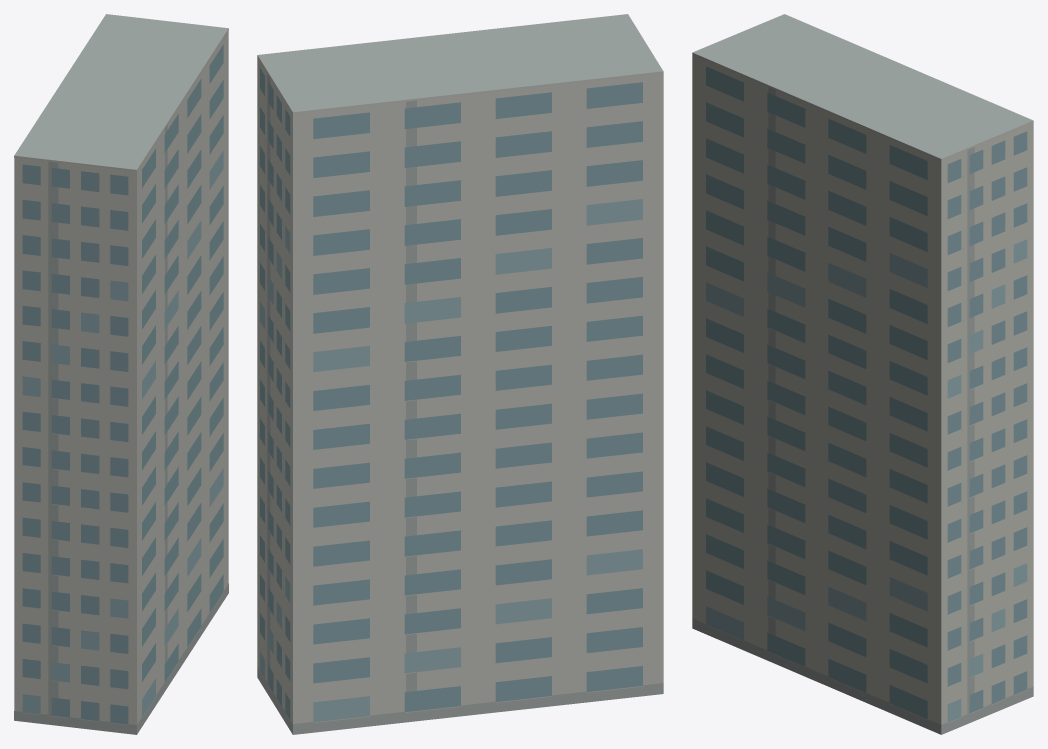
The model's file is residential-fc2d9f7b-2e3f-4cb3-85b4-960a05a6cb28.glb.
3 renders of one model, left to right at view 1: azimuth 30°, elevation 25°; view 2: azimuth 150°, elevation 25°; view 3: azimuth 270°, elevation 25°, orthographic. The views are drawn at different scales.
Visible parts, largest first — view 1: residential-fc2d9f7b-2e3f-4cb3-85b4-960a05a6cb28.tmp; view 2: residential-fc2d9f7b-2e3f-4cb3-85b4-960a05a6cb28.tmp; view 3: residential-fc2d9f7b-2e3f-4cb3-85b4-960a05a6cb28.tmp.
Boxes of the visible parts, x1,y1,x2,y2 form: residential-fc2d9f7b-2e3f-4cb3-85b4-960a05a6cb28.tmp: (14,14,228,734); residential-fc2d9f7b-2e3f-4cb3-85b4-960a05a6cb28.tmp: (257,14,663,734); residential-fc2d9f7b-2e3f-4cb3-85b4-960a05a6cb28.tmp: (692,14,1033,734).
Size of the model in its own units: 39.43 by 73 by 39.22.
